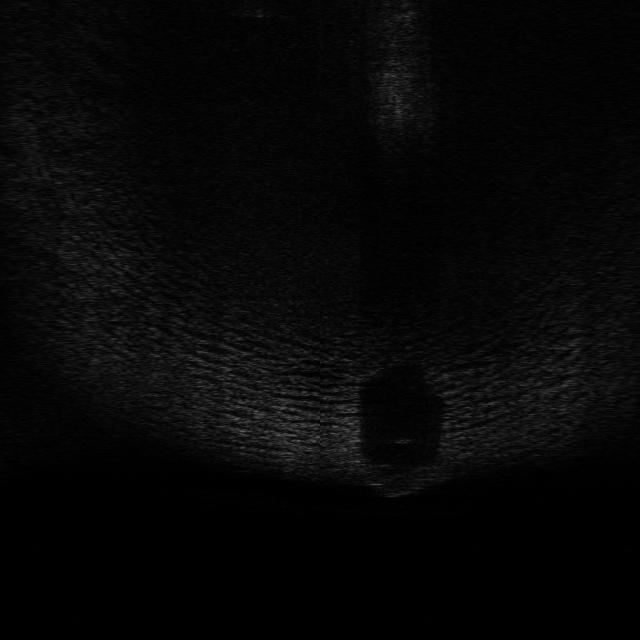cube: (367, 460, 442, 499)
